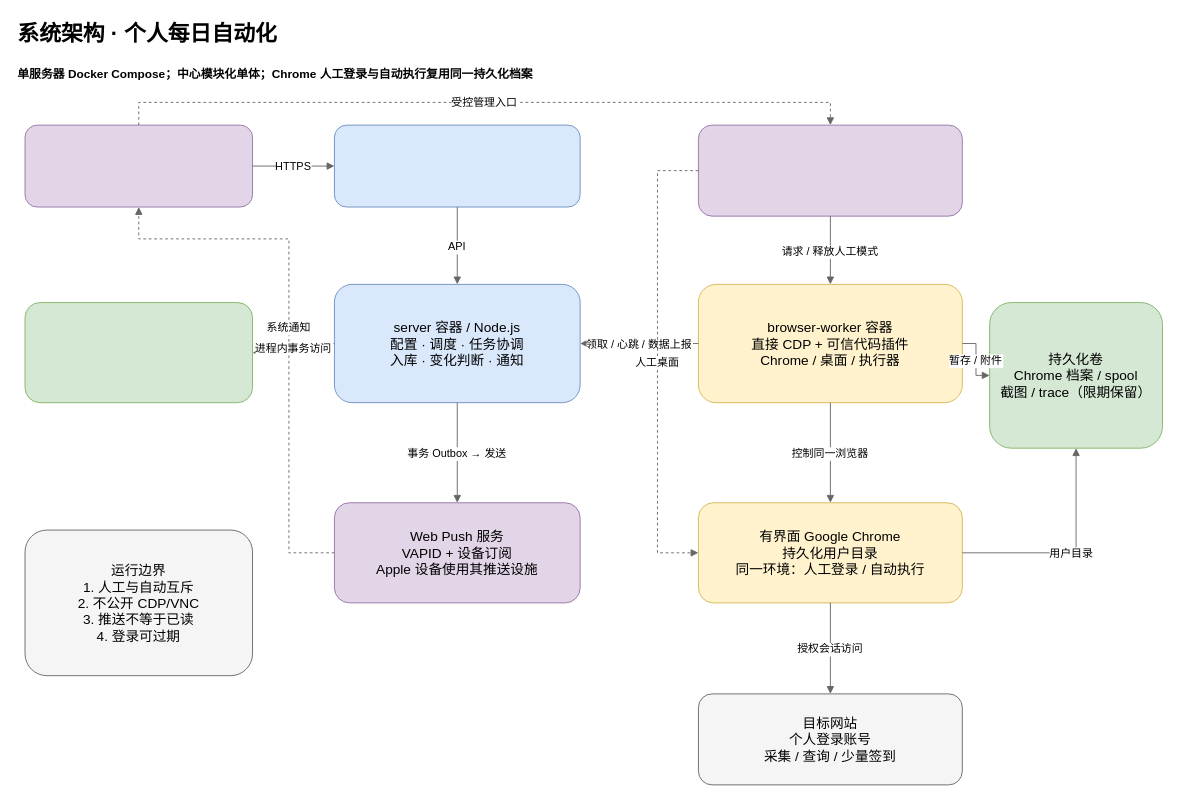
This 1178x801 diagram has some shape labels left out. The shapes that lost their labels are listed below. From the top down, each one's centre as x and y in pixels, then its label:
At (138,165): "个人用户 桌面浏览器 / iPhone PWA".
At (457,165): "现有 NGINX / 域名 / TLS Vue 3 静态前端 / API 代理".
At (830,170): "受保护的远程桌面 noVNC + Xvfb 人工模式持有浏览器锁".
At (138,352): "SQLite（中心服务内嵌） 本地持久化卷 / WAL 任务 / 数据 / 通知 / Outbox".
